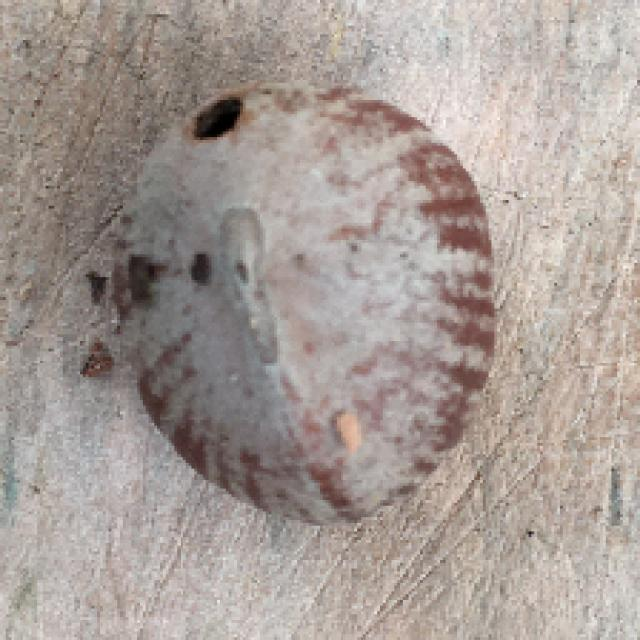damagedHazelnut: (129, 80, 492, 522)
